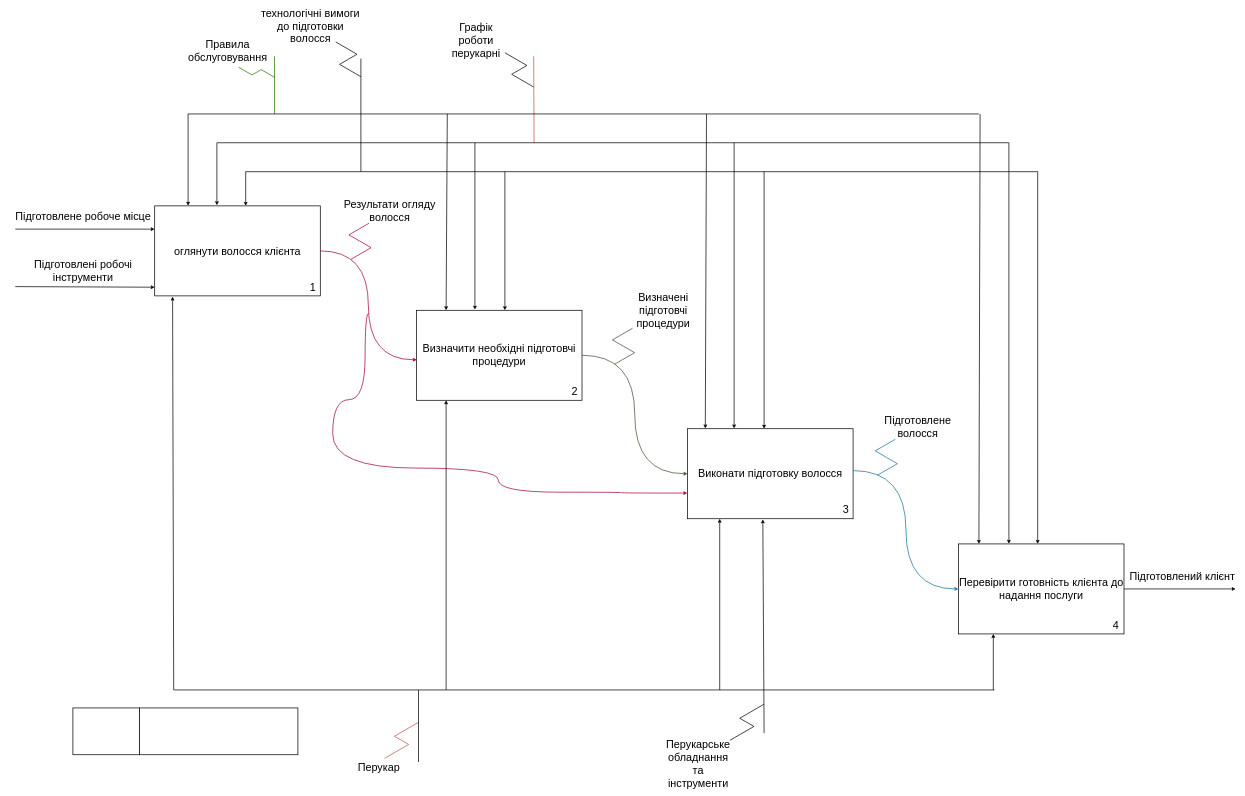
This 1245x796 diagram has some shape labels left out. Each missing label, with the centre of its shape:
A32: the point at 106,731
Підготувати клієнта до надання послуги: the point at 218,731
